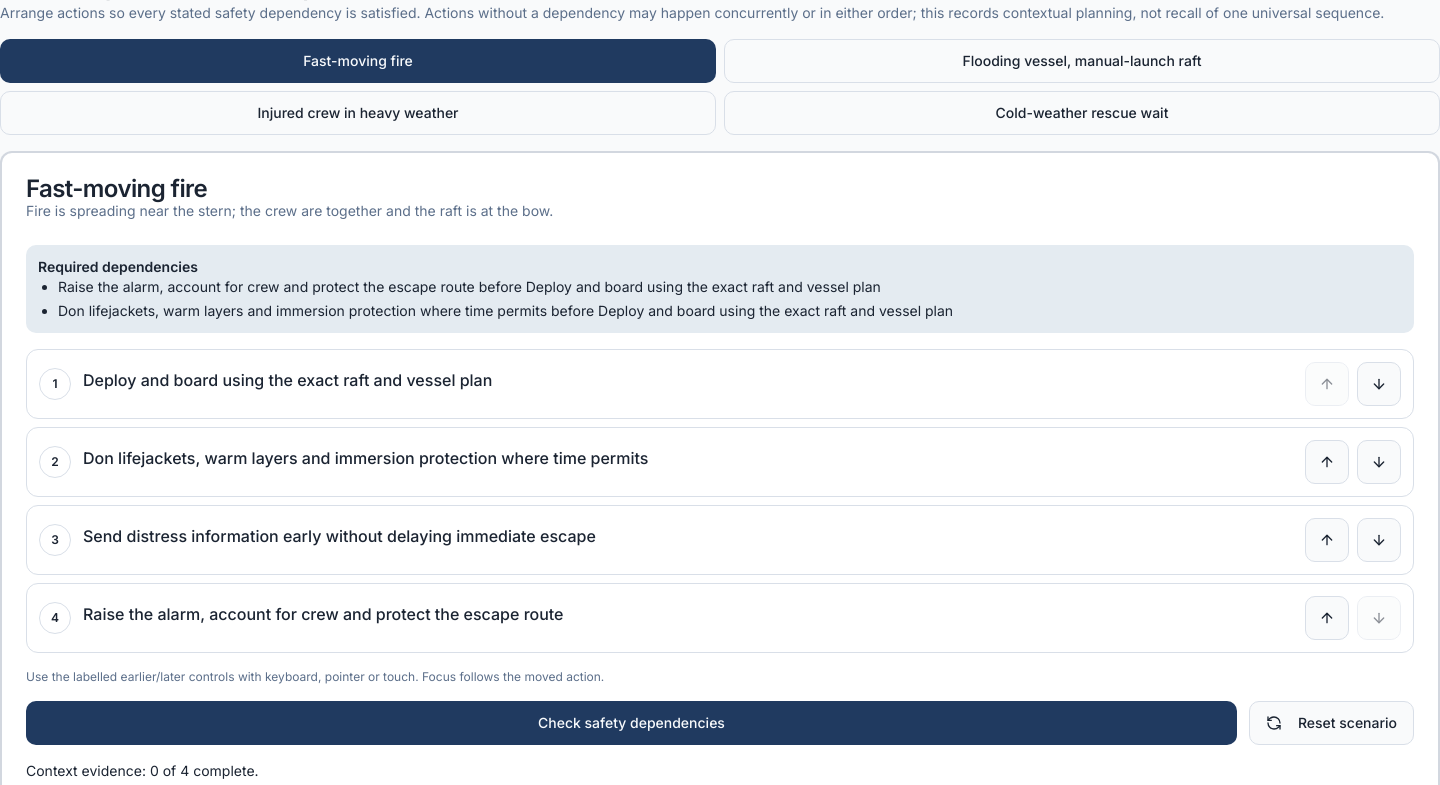
Test: AbandonShipSortingGame › starts deterministically unsolved and reports each violated dependency
The image size is (1440, 785).
Click the button "Check safety dependencies": (631,723) [26,701,1237,745]
(page scrolled)
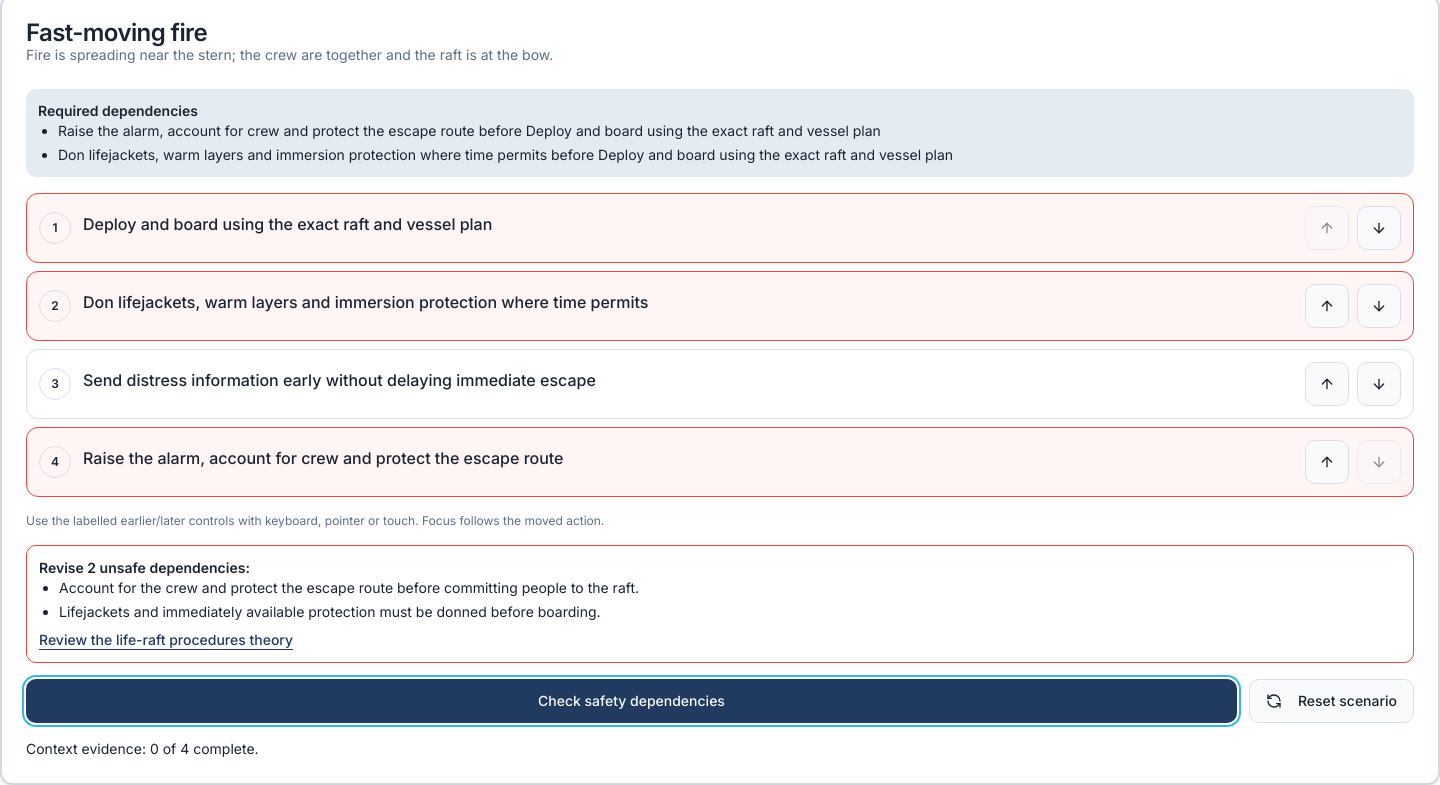
Expected: the message shows "Revise 2 unsafe dependencies", [26,545,1414,663]
Expected: the message shows "Account for the crew", [59,579,639,596]
Expected: the button "Review the life-raft procedures theory" is shown, [39,630,293,650]
